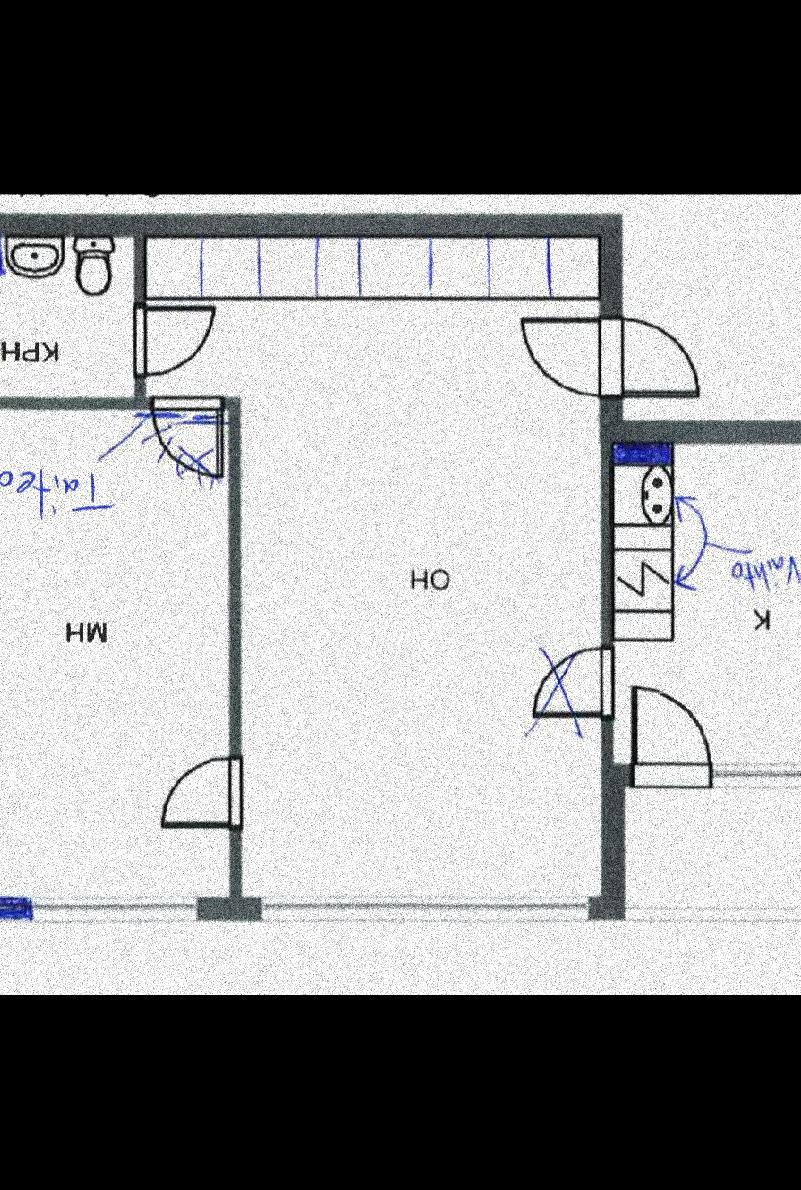door: (516, 300, 722, 399), (157, 744, 266, 835), (630, 689, 714, 788), (528, 638, 620, 725), (150, 390, 220, 504), (130, 302, 224, 380)
window: (266, 890, 590, 921), (24, 894, 196, 923), (624, 897, 801, 916)
zone: (154, 247, 592, 894), (0, 409, 230, 895), (611, 444, 801, 768), (622, 778, 801, 903), (0, 238, 132, 397)
